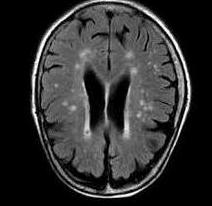Normal_Brain: (37, 1, 212, 206)
